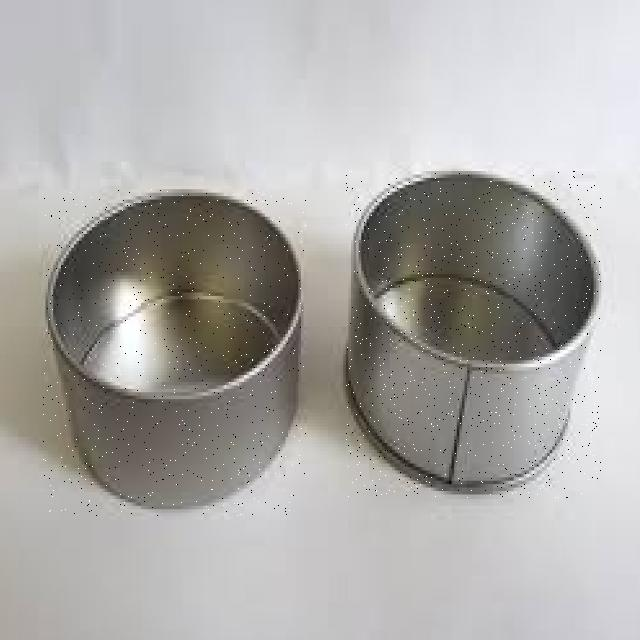metal: (44, 189, 306, 516), (346, 172, 601, 498)
